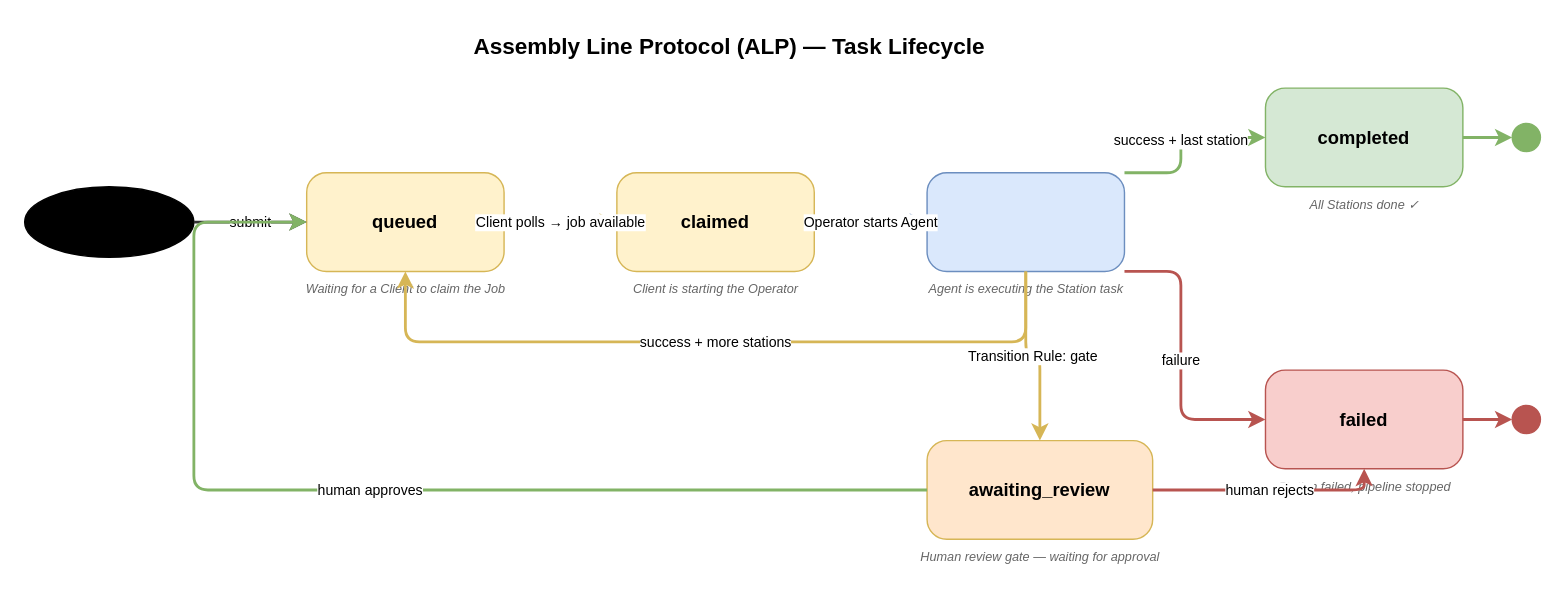
Some shapes in this 1565 by 595 pixel diagram are drawn without their labels. Here are the shapes that lost their labels. From the top down, the centre of each, then its label:
At (x=108, y=221): "Task Submitted".
At (x=1025, y=221): "in_progress".
